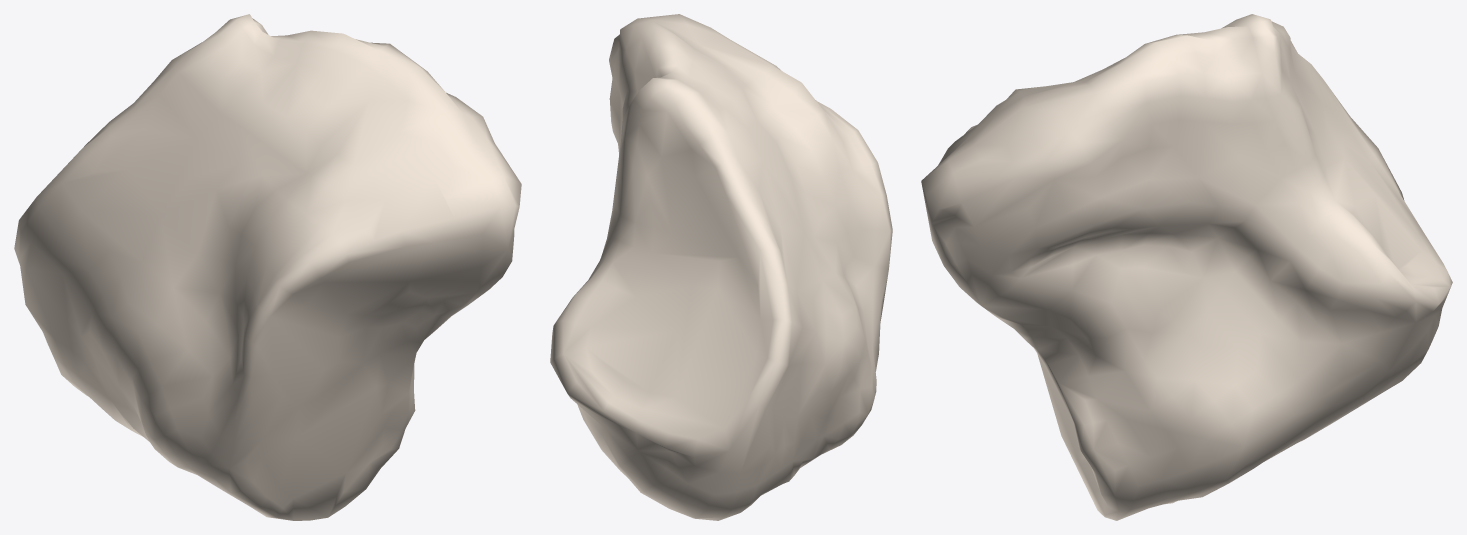
Rendered from left_medial_cuneiform.glb.
3 renders of one model, left to right at view 1: azimuth 30°, elevation 25°; view 2: azimuth 150°, elevation 25°; view 3: azimuth 270°, elevation 25°, orthographic. The views are drawn at different scales.
Visible parts, largest first — view 1: Medial cuneiform bone.r; view 2: Medial cuneiform bone.r; view 3: Medial cuneiform bone.r.
Part boxes in pixels (x1=…): Medial cuneiform bone.r: x1=14, y1=14, x2=521, y2=520; Medial cuneiform bone.r: x1=550, y1=14, x2=892, y2=520; Medial cuneiform bone.r: x1=921, y1=14, x2=1452, y2=520.
Bounding box in the file's own units: 0.0239 × 0.0331 × 0.0322.
